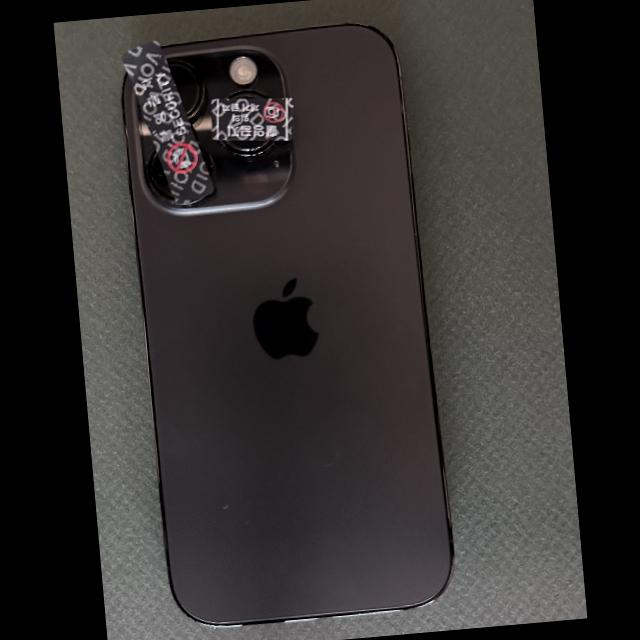lens: (166, 59, 204, 118), (149, 150, 175, 202), (222, 140, 274, 156)
phone: (120, 22, 455, 627)
sticker: (122, 40, 214, 204), (210, 96, 294, 141)
